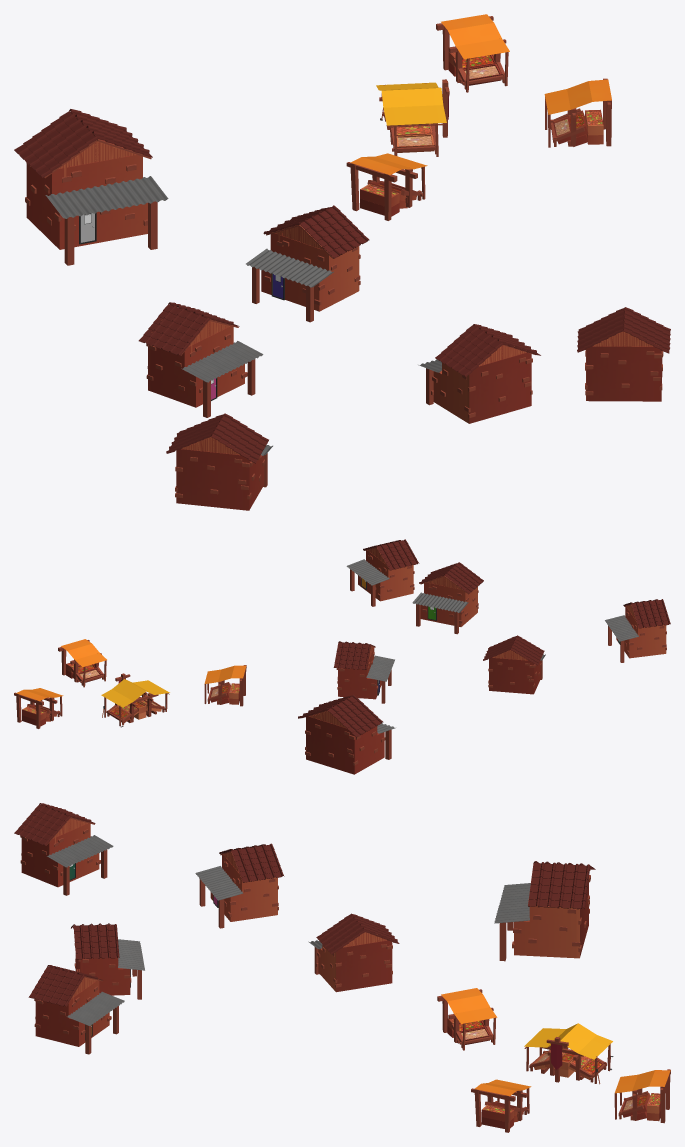
File: Desa 2.fbx
3 renders of one model, top to bottom at view 1: azimuth 30°, elevation 25°; view 2: azimuth 150°, elevation 25°; view 3: azimuth 270°, elevation 25°, orthographic. The views are drawn at different scales.
Visible parts, largest first — view 1: Cube.405, Cube.303, Cube.337, Cube.577, Cube.191, Cube.525, Cube.523, Cube.371, Cube.597, Cube.439, Plane.036, Plane.038 (+11 smaller); view 2: Cube.405, Cube.577, Cube.371, Cube.523, Cube.597, Cube.525, Cube.191, Cube.303, Plane.038, Cube.337, Cube.439, Plane.043 (+8 smaller); view 3: Cube.577, Cube.405, Cube.439, Cube.597, Plane.037, Cube.525, Cube.337, Cube.191, Cube.523, Cube.371, Plane.023, Plane.032 (+10 smaller).
Boxes of the visible parts, box(x1,y1,x2,y2) form: Cube.405: box(26, 139, 147, 249); Cube.303: box(433, 352, 531, 423); Cube.337: box(176, 439, 264, 510); Cube.577: box(376, 79, 449, 156); Cube.191: box(586, 346, 662, 401); Cube.525: box(436, 14, 509, 92); Cube.523: box(544, 78, 611, 147); Cube.371: box(148, 325, 244, 407); Cube.597: box(346, 153, 427, 220); Cube.439: box(261, 232, 359, 311); Plane.036: box(45, 176, 168, 218); Plane.038: box(14, 111, 97, 177); Cube.405: box(306, 711, 384, 774); Cube.577: box(101, 673, 169, 727); Cube.371: box(489, 657, 540, 694); Cube.523: box(58, 639, 106, 687); Cube.597: box(204, 665, 246, 706); Cube.525: box(14, 688, 63, 728); Cube.191: box(358, 550, 413, 601); Cube.303: box(420, 582, 477, 626); Plane.038: box(327, 694, 383, 737); Cube.337: box(616, 605, 666, 658); Cube.439: box(338, 647, 381, 699); Plane.043: box(333, 642, 371, 669); Cube.577: box(524, 1023, 613, 1084); Cube.405: box(514, 882, 588, 958); Cube.439: box(318, 940, 392, 992); Cube.597: box(437, 988, 497, 1050); Plane.037: box(528, 862, 590, 908); Cube.525: box(614, 1069, 670, 1123); Cube.337: box(21, 822, 99, 887); Cube.191: box(35, 979, 109, 1046); Cube.523: box(471, 1079, 531, 1132); Cube.371: box(210, 853, 277, 921); Plane.023: box(73, 924, 119, 959); Plane.032: box(231, 843, 284, 882).
Bounding box in the file's own units: 4670 × 657 × 4618.
